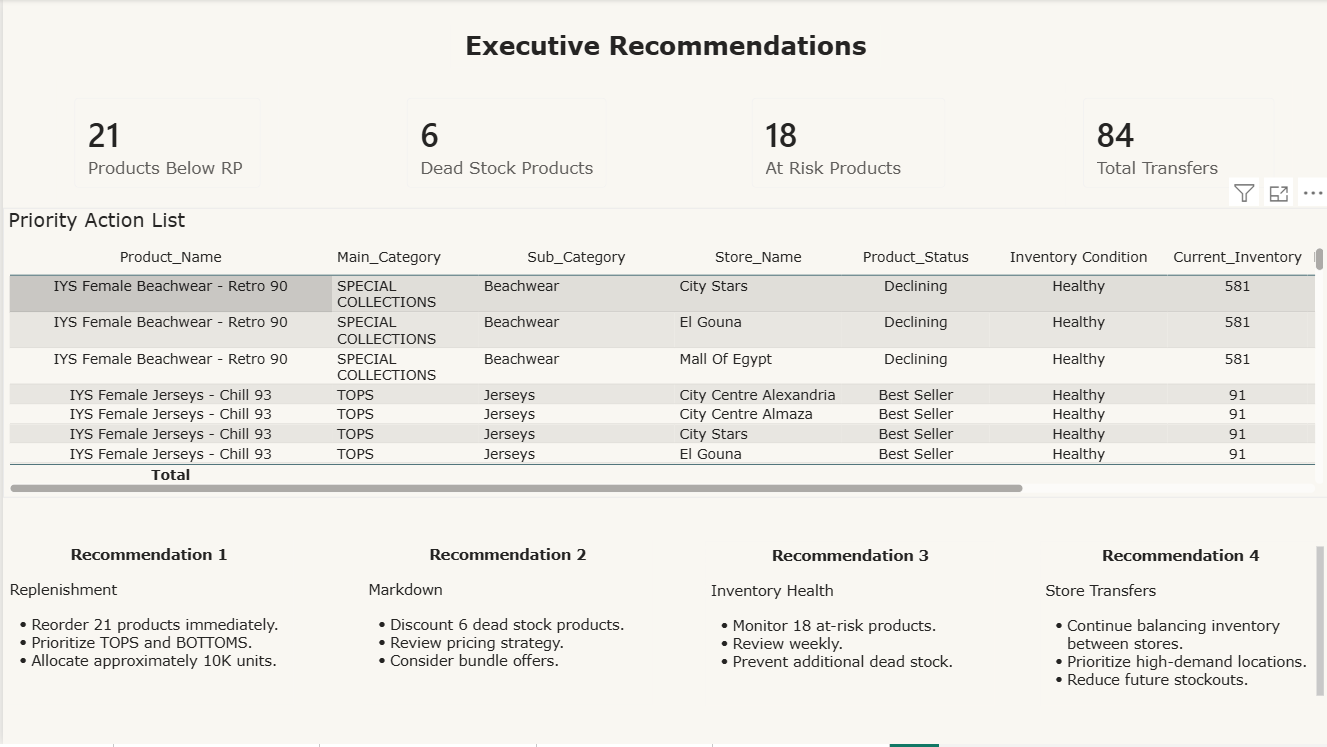

Layout of this report page (visuals, bound fields, positions):
{"tool":"powerbi","page":{"name":"Recommendations","canvas":[1280,720],"ordinal":4},"visuals":[{"type":"textbox","box":[431.9,25.4,415.4,40.7],"z":0},{"type":"cardVisual","fields":{"Data":["Measures 1.Products Below Reorder Point"]},"box":[51.3,78.8,214,121.9],"z":1000},{"type":"cardVisual","fields":{"Data":["Measures 1.Dead Stock Products"]},"box":[372.7,78.8,227.4,122],"z":2000},{"type":"cardVisual","fields":{"Data":["Measures 1.At Risk Products"]},"box":[705.6,78.8,221.8,121.9],"z":3000},{"type":"cardVisual","fields":{"Data":["Measures 1.Total Transfers"]},"box":[1025.7,78.8,219.2,121.9],"z":4000},{"type":"tableEx","title":"Priority Action List","fields":{"Values":["Products.Product_Name","Products.Main_Category","Products.Sub_Category","Stores.Store_Name","Products.Product_Status","Products.Inventory Condition","Products.Current_Inventory","Inventory_Snapshot.Reorder_Point","Measures 1.Reorder Quantity","Products.Suggested Action"]},"box":[0,201.2,1280,280],"z":5000},{"type":"textbox","box":[1.5,522.9,279.5,158.8],"z":6000},{"type":"textbox","box":[347.7,522.9,279.5,158.8],"z":7000},{"type":"textbox","box":[678.3,524.1,279.5,158.8],"z":8000},{"type":"textbox","box":[1001.6,524.1,279.5,158.8],"z":9000}]}

Visuals, with their boxes in screenshot pixels (x1, y1, x2, y2), scaled from the page's 1280x720 canvas onto the 1327x747 screenshot:
textbox: select_region(448, 26, 878, 69)
cardVisual - Measures 1.Products Below Reorder Point: select_region(53, 82, 275, 208)
cardVisual - Measures 1.Dead Stock Products: select_region(386, 82, 622, 208)
cardVisual - Measures 1.At Risk Products: select_region(732, 82, 961, 208)
cardVisual - Measures 1.Total Transfers: select_region(1063, 82, 1291, 208)
"Priority Action List" tableEx: select_region(0, 209, 1326, 499)
textbox: select_region(2, 543, 291, 707)
textbox: select_region(360, 543, 650, 707)
textbox: select_region(703, 544, 993, 709)
textbox: select_region(1038, 544, 1326, 709)
